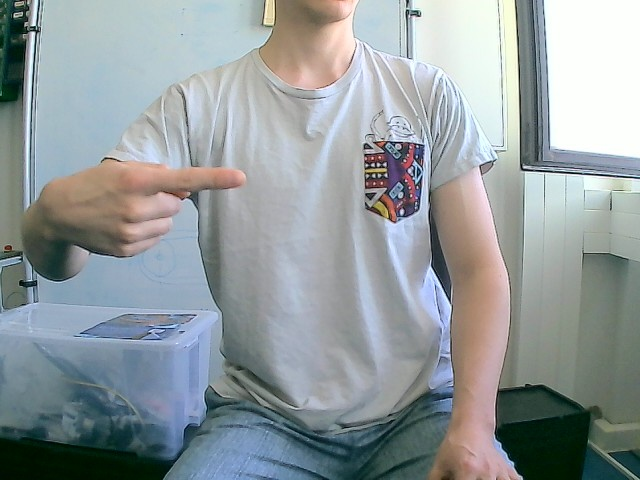left: (39, 157, 247, 260)
